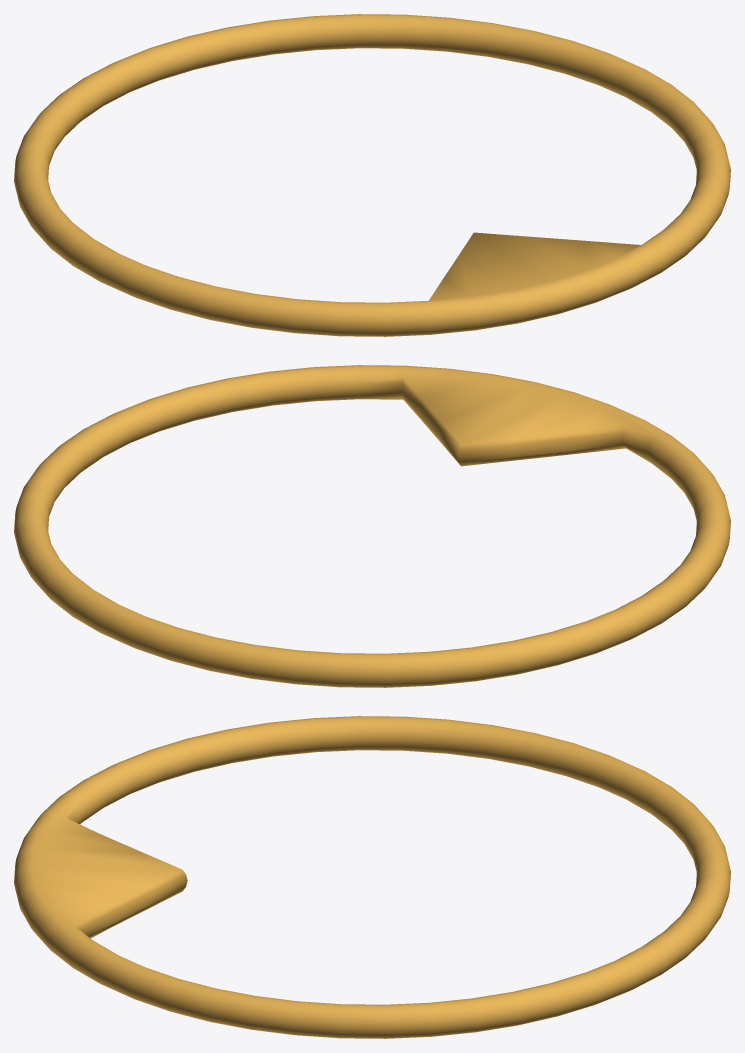
Rendered from point-of-interest_Indicator.glb.
3 views of the same model, one above another, from view 1: azimuth 30°, elevation 25°; view 2: azimuth 150°, elevation 25°; view 3: azimuth 270°, elevation 25° (orthographic).
Parts seen in each view (by area): view 1: Torus; view 2: Torus; view 3: Torus.
Part boxes in pixels (x1=…): Torus: x1=14, y1=14, x2=730, y2=336; Torus: x1=14, y1=365, x2=730, y2=687; Torus: x1=14, y1=716, x2=730, y2=1038.
Bounding box in the file's own units: 2.1 × 0.1 × 2.1.
